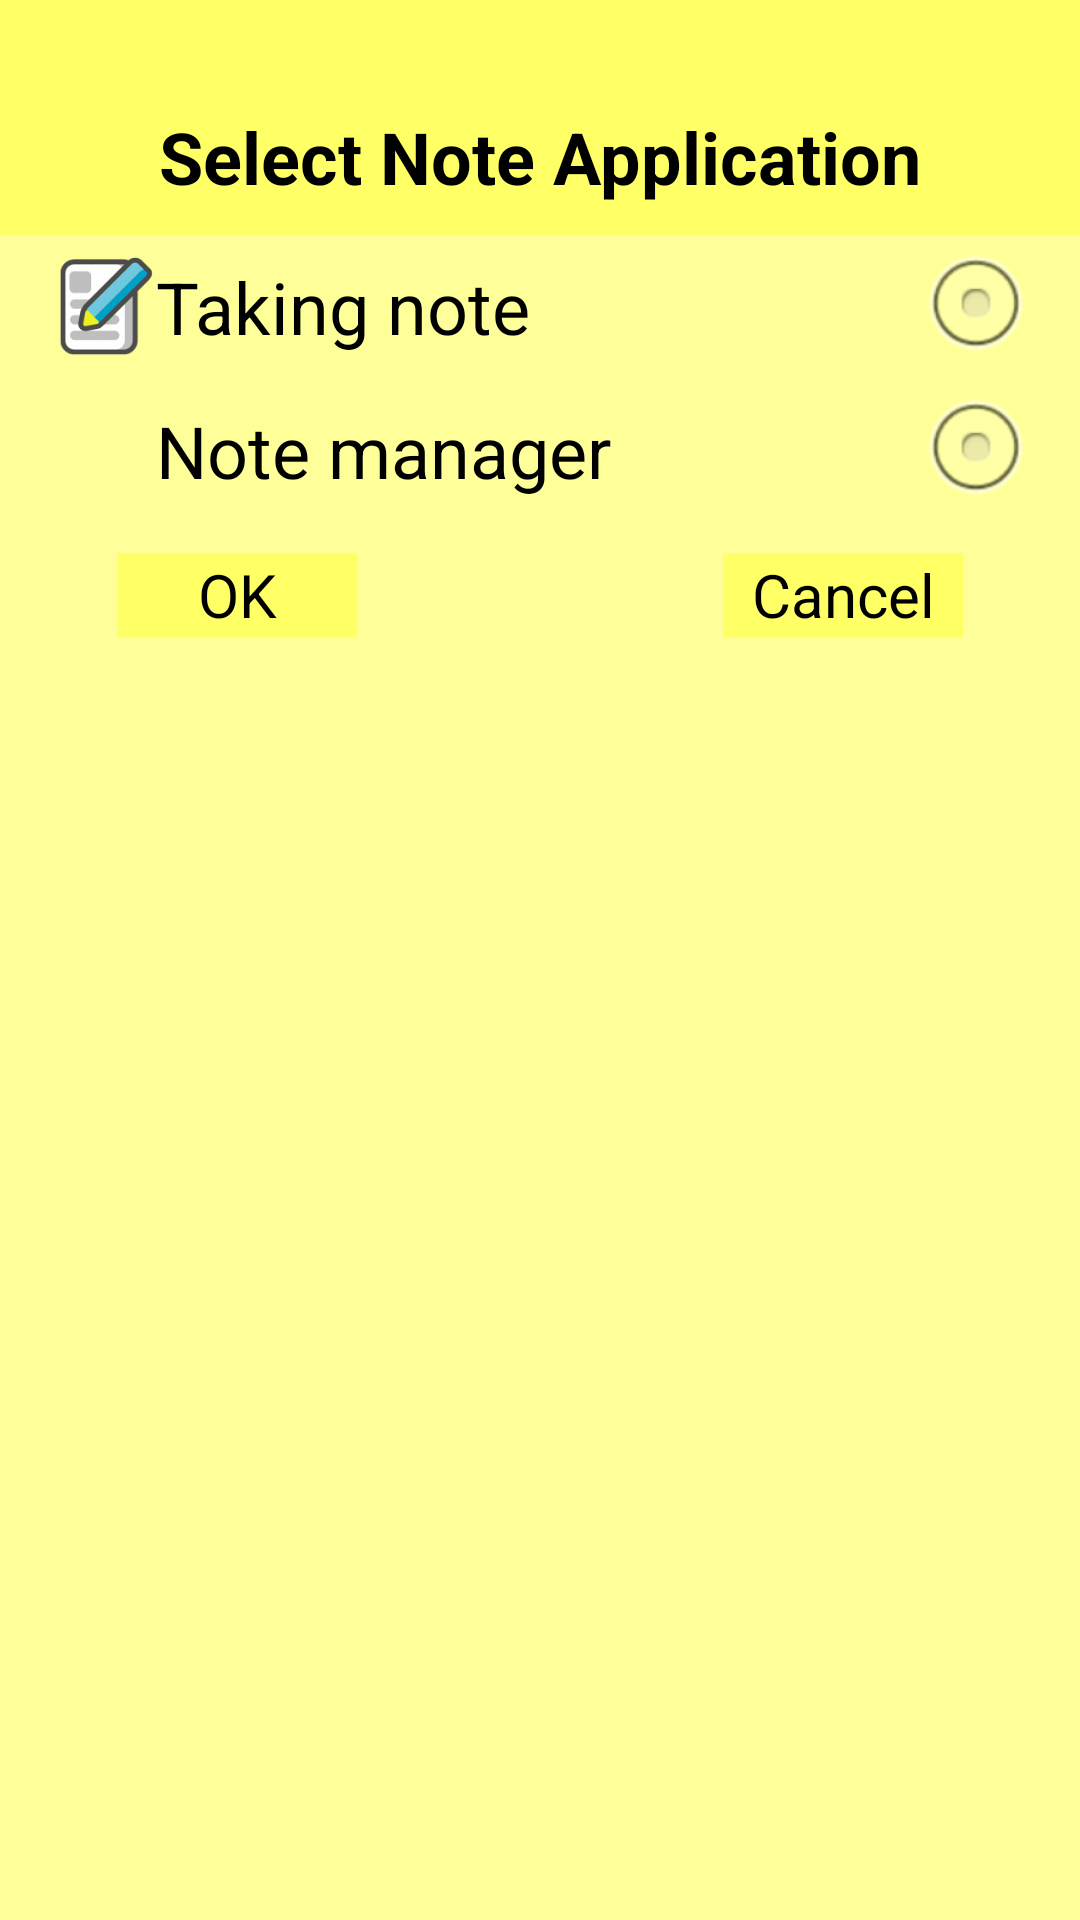

Icons on this 1080*1920 Android screen, each with the point to tap as point (x, y):
take note: point (106, 306)
